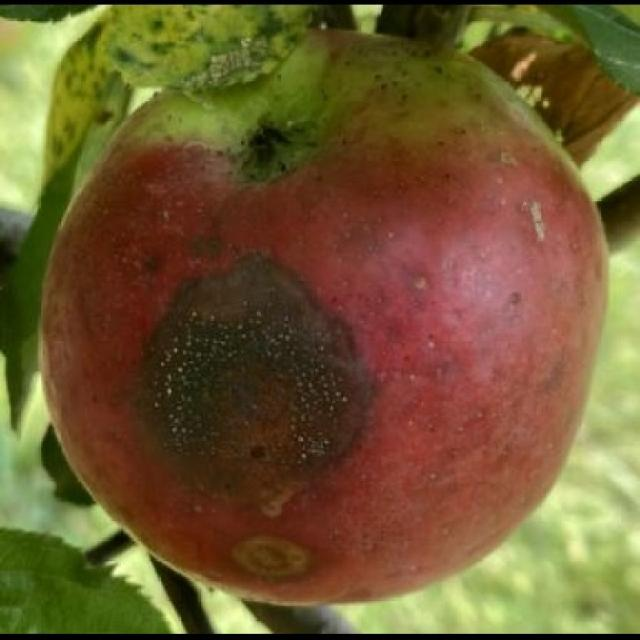Rotten Apple: (31, 25, 615, 609)
